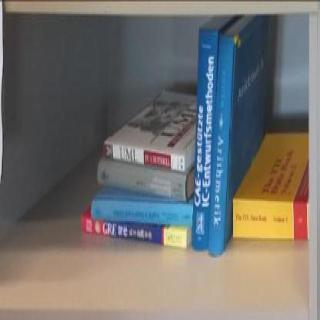book-spine: (188, 27, 219, 251), (208, 32, 234, 257), (94, 161, 192, 202), (79, 214, 189, 249), (233, 198, 309, 238), (90, 198, 194, 226), (101, 142, 188, 173)
